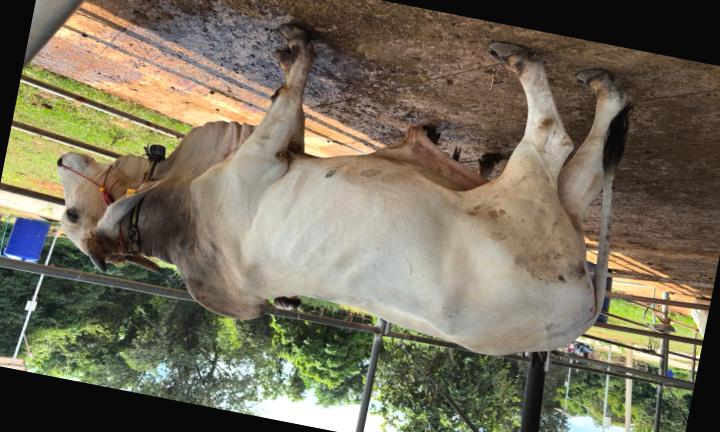Brahman: (58, 24, 628, 354)
